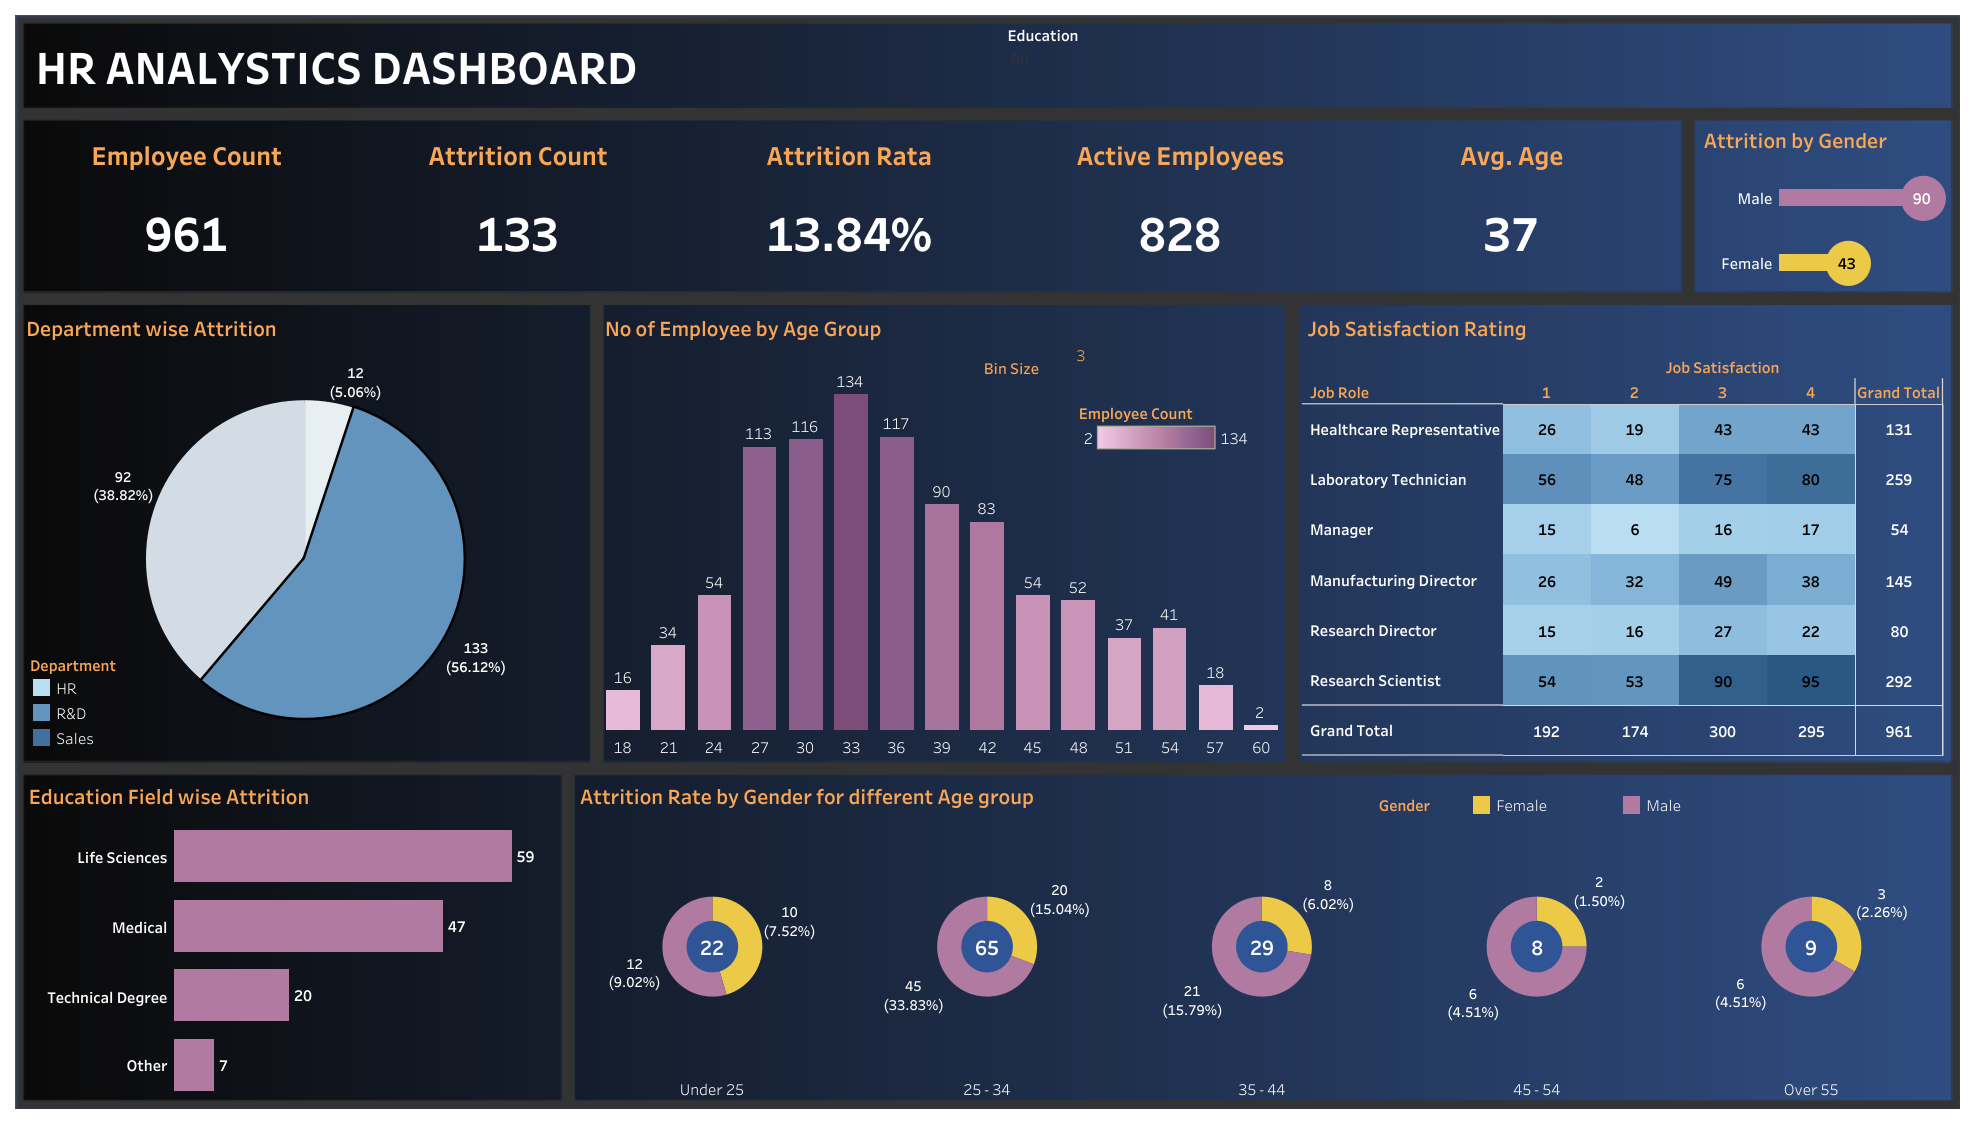

The dashboard page shown, as its layout file describes it:
{"tool":"tableau","page":{"name":"HR ANALYSTICS DASHBOARD","canvas":[1580,900],"ordinal":0},"visuals":[{"type":"image","param":"Image/HR background.pptx.png","box":[8,8,1564,884]},{"type":"text","box":[26,18,657,69]},{"type":"filter","title":"Department wise Attrition","param":"[federated.05oppd50omxrxc16wabv81wfxb4w].[none:Education:nk]","box":[806,18,227,66]},{"type":"worksheet","title":"Attrition by Gender","mark":"Automatic","rows":["Gender"],"cols":["Calculation_1639591778613149696","Calculation_1639591778613149696"],"box":[1359,94,204,142]},{"type":"worksheet","title":"KPI","mark":"Automatic","box":[17,98,1325,133]},{"type":"worksheet","title":"Department wise Attrition","mark":"Pie","box":[17,245,454,366]},{"type":"worksheet","title":"No of Employee by Age Group","mark":"Automatic","rows":["Employee Count"],"cols":["Age (bin)"],"box":[480,245,547,361]},{"type":"worksheet","title":"Job Satisfaction Rating","mark":"Square","rows":["Job Role"],"cols":["Job Satisfaction"],"box":[1042,245,513,360]},{"type":"parameter","param":"[Parameters].[Parameter 1]","box":[787,275,232,37]},{"type":"legend","title":"No of Employee by Age Group","param":"[federated.05oppd50omxrxc16wabv81wfxb4w].[sum:Employee Count:qk]","box":[863,317,140,62]},{"type":"legend","title":"Department wise Attrition","param":"[federated.05oppd50omxrxc16wabv81wfxb4w].[none:Department:nk]","box":[23,521,113,85]},{"type":"worksheet","title":"Education Field wise Attrition","mark":"Automatic","rows":["Education Field"],"cols":["Calculation_1639591778613149696"],"box":[19,619,427,261]},{"type":"worksheet","title":"Attrition Rate by Gender for different Age group ","mark":"Pie","rows":["Calculation_157907501285212163","Calculation_157907501285326853"],"cols":["CF_age band"],"box":[460,619,1099,261]},{"type":"legend","title":"Attrition Rate by Gender for different Age group ","param":"[federated.05oppd50omxrxc16wabv81wfxb4w].[none:Gender:nk]","box":[1103,634,423,34]}]}

Visuals, with their boxes in screenshot pixels (x1, y1, x2, y2), scaled from the page's 1580x900 canvas onto the 1974x1124 screenshot:
image: bbox=[10, 10, 1964, 1114]
text: bbox=[32, 22, 853, 109]
"Department wise Attrition" filter: bbox=[1007, 22, 1291, 105]
"Attrition by Gender" worksheet: bbox=[1698, 117, 1953, 295]
"KPI" worksheet: bbox=[21, 122, 1677, 288]
"Department wise Attrition" worksheet (Pie marks): bbox=[21, 306, 588, 763]
"No of Employee by Age Group" worksheet: bbox=[600, 306, 1283, 757]
"Job Satisfaction Rating" worksheet (Square marks): bbox=[1302, 306, 1943, 756]
parameter: bbox=[983, 343, 1273, 390]
"No of Employee by Age Group" legend: bbox=[1078, 396, 1253, 473]
"Department wise Attrition" legend: bbox=[29, 651, 170, 757]
"Education Field wise Attrition" worksheet: bbox=[24, 773, 557, 1099]
"Attrition Rate by Gender for different Age group " worksheet (Pie marks): bbox=[575, 773, 1948, 1099]
"Attrition Rate by Gender for different Age group " legend: bbox=[1378, 792, 1907, 834]
